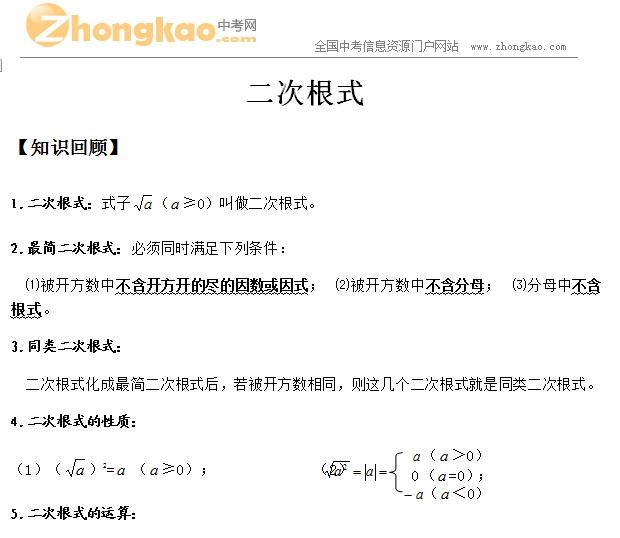sqrt: (325, 457, 349, 481), (65, 456, 86, 477), (135, 191, 153, 213)
square: (342, 463, 346, 472), (101, 463, 106, 469)
